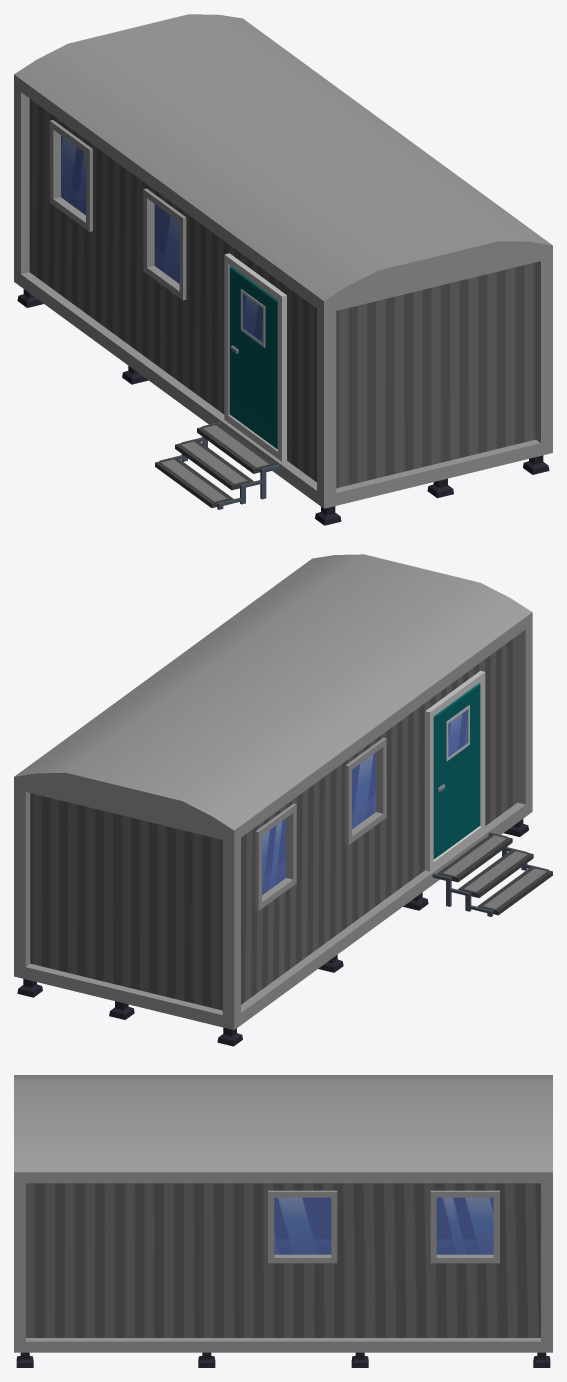
The model's file is TrailerC_1_E.fbx.
3 views of the same model, one above another, from view 1: azimuth 30°, elevation 25°; view 2: azimuth 150°, elevation 25°; view 3: azimuth 270°, elevation 25° (orthographic). The views are drawn at different scales.
Parts seen in each view (by area): view 1: TrailerC_1_E; view 2: TrailerC_1_E; view 3: TrailerC_1_E.
Part boxes in pixels (x1,y1,x2,y2): TrailerC_1_E: (14, 14, 552, 525); TrailerC_1_E: (14, 554, 552, 1046); TrailerC_1_E: (14, 1075, 552, 1367).
Size of the model in its own units: 330 by 260 by 599.
